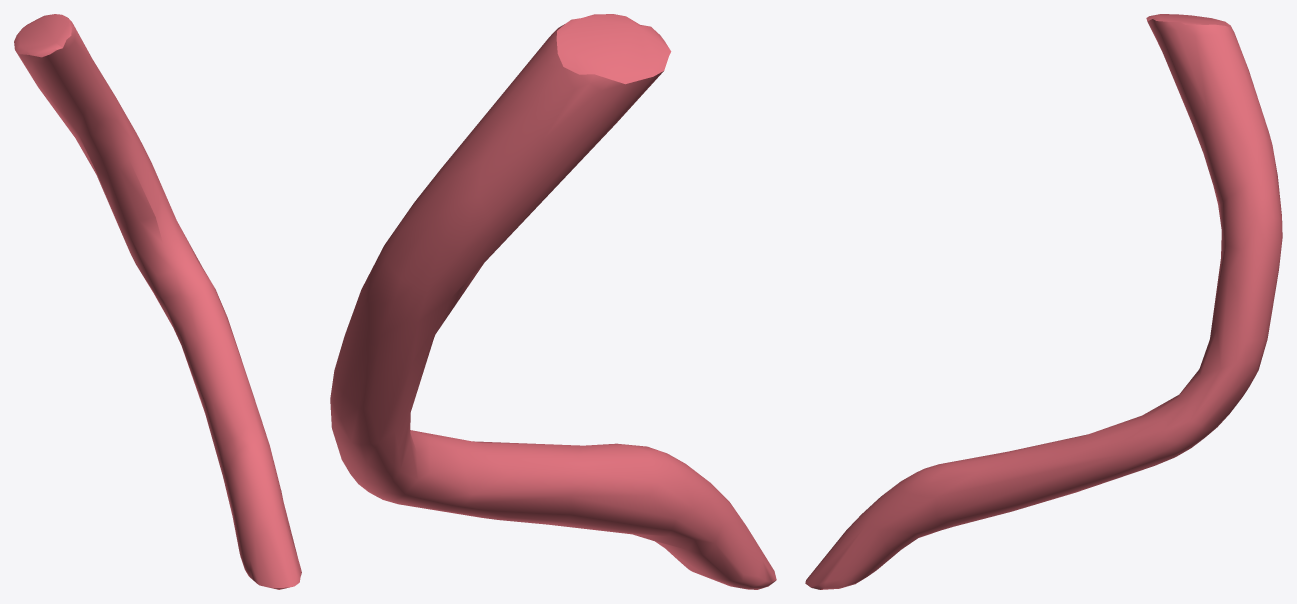
Rendered from fma18886_fj3484.glb.
3 views of the same model, side by side, from view 1: azimuth 30°, elevation 25°; view 2: azimuth 150°, elevation 25°; view 3: azimuth 270°, elevation 25° (orthographic). The views are drawn at different scales.
Visible parts, largest first — view 1: FMA18886_FJ3484; view 2: FMA18886_FJ3484; view 3: FMA18886_FJ3484.
Boxes of the visible parts, <box> form: FMA18886_FJ3484: <box>14,14,301,589</box>; FMA18886_FJ3484: <box>330,14,776,589</box>; FMA18886_FJ3484: <box>805,14,1282,589</box>.
Bounding box in the file's own units: 0.0434 × 0.1008 × 0.0822.
